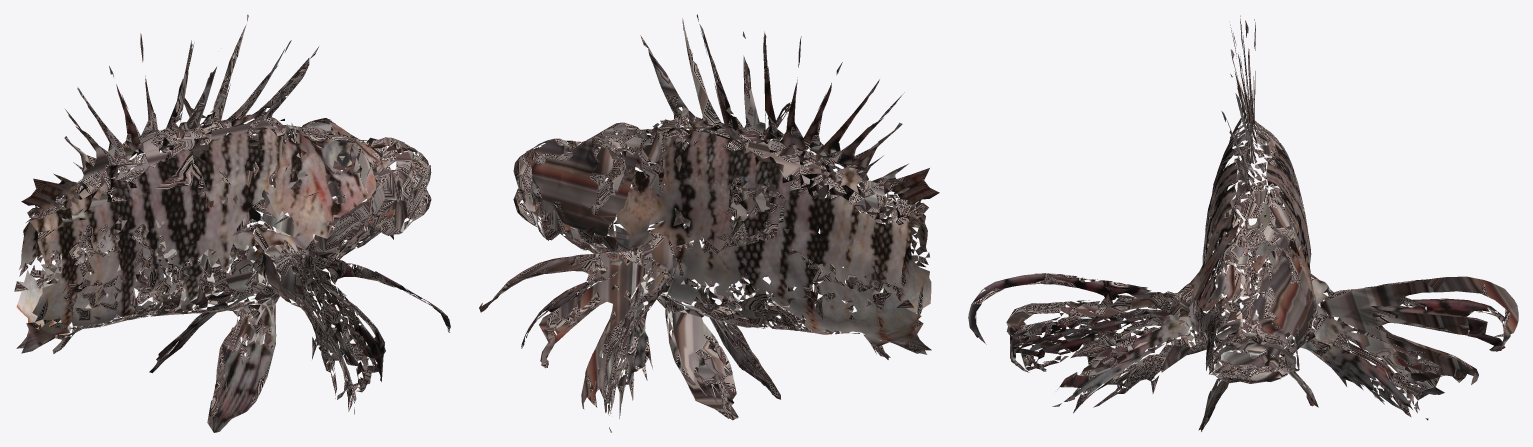
Rendered from lionfish_a.glb.
3 views of the same model, side by side, from view 1: azimuth 30°, elevation 25°; view 2: azimuth 150°, elevation 25°; view 3: azimuth 270°, elevation 25° (orthographic).
Visible parts, largest first — view 1: lionfish_a; view 2: lionfish_a; view 3: lionfish_a.
Part boxes in pixels (box(x1,y1,x2,y2)): lionfish_a: box(14, 14, 450, 432); lionfish_a: box(479, 14, 939, 432); lionfish_a: box(968, 15, 1518, 431).
Size of the model in its own units: 0.39 by 0.3545 by 0.4534.
1 material, 1 textured.
